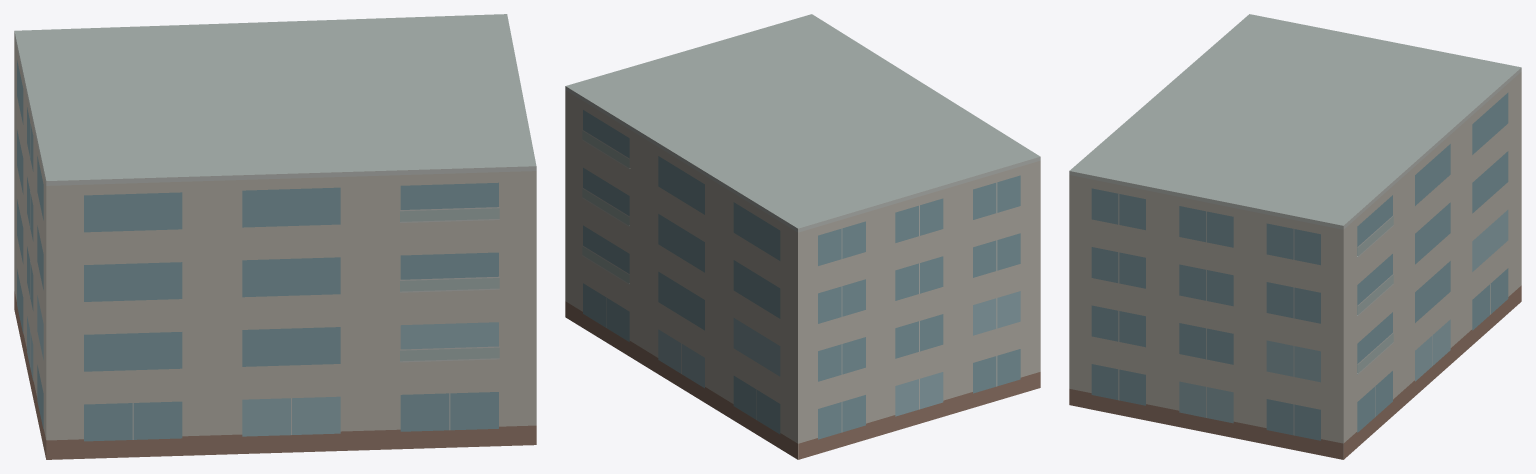
The model's file is survey-upis-32947230.glb.
3 renders of one model, left to right at view 1: azimuth 30°, elevation 25°; view 2: azimuth 150°, elevation 25°; view 3: azimuth 270°, elevation 25°, orthographic. The views are drawn at different scales.
Parts seen in each view (by area): view 1: survey-upis-32947230.tmp; view 2: survey-upis-32947230.tmp; view 3: survey-upis-32947230.tmp.
Boxes of the visible parts, bbox=[...] form: survey-upis-32947230.tmp: bbox=[14, 14, 536, 459]; survey-upis-32947230.tmp: bbox=[565, 14, 1040, 459]; survey-upis-32947230.tmp: bbox=[1069, 14, 1521, 459].
Bounding box in the file's own units: 27.56 × 14.2 × 24.88.
